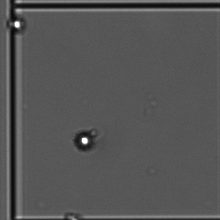Living Cell: (71, 128, 97, 154), (11, 17, 28, 40)
